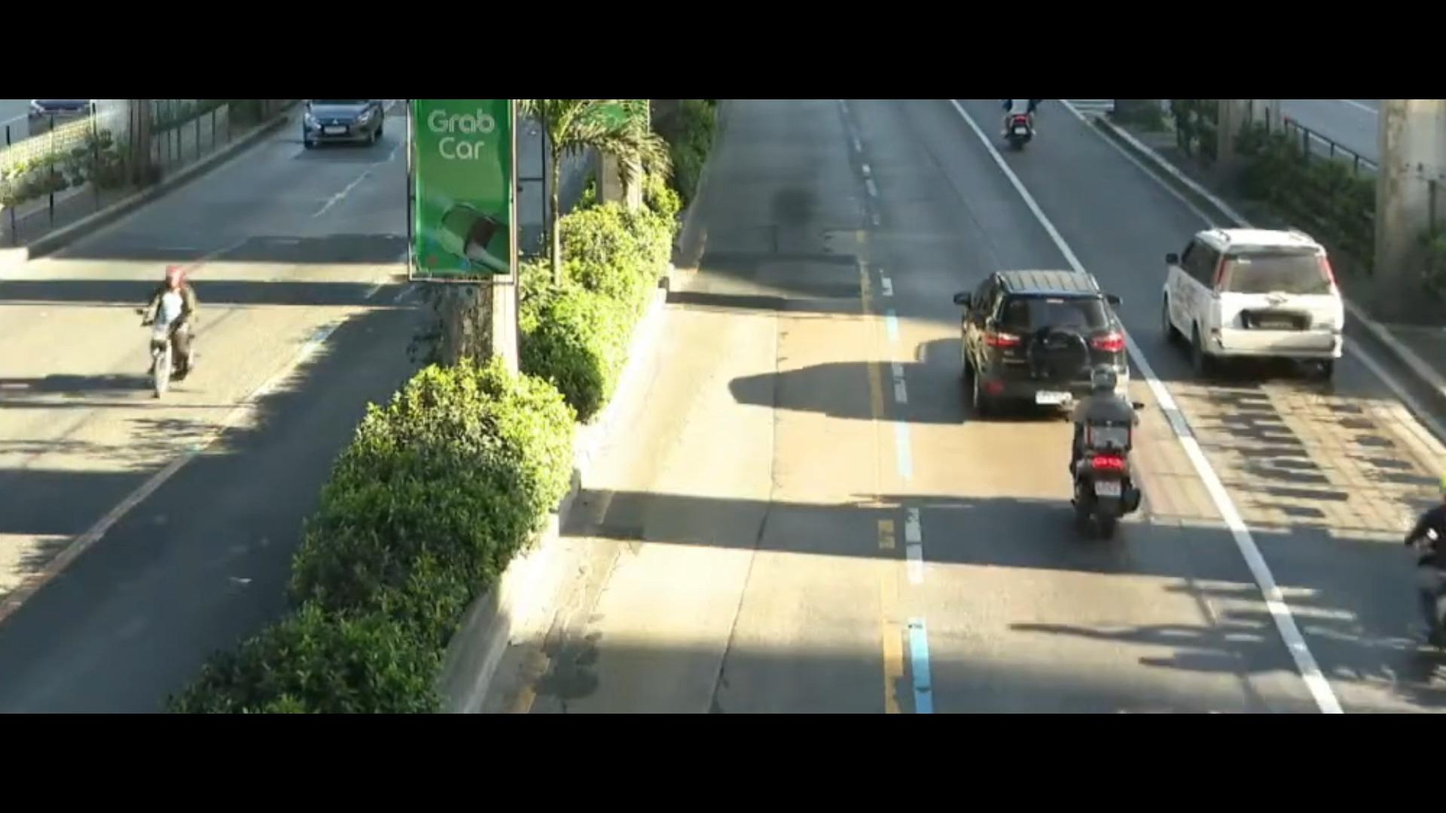Motorcycle: (1063, 365, 1170, 536), (120, 268, 219, 425), (974, 98, 1059, 179)
SUV: (1156, 211, 1367, 387), (959, 262, 1147, 431)
Sedan: (298, 104, 388, 175)
